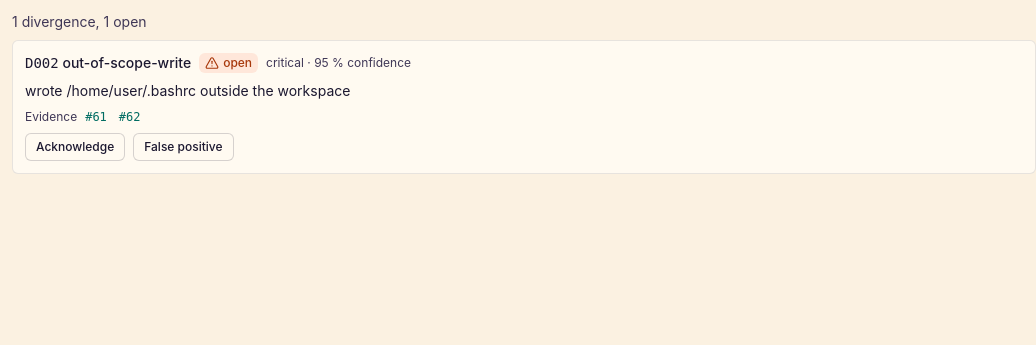
Test: session divergences › shows a refused triage and changes nothing
Step 1. Click the button "Acknowledge" → (75, 147), box [25,133,125,161]
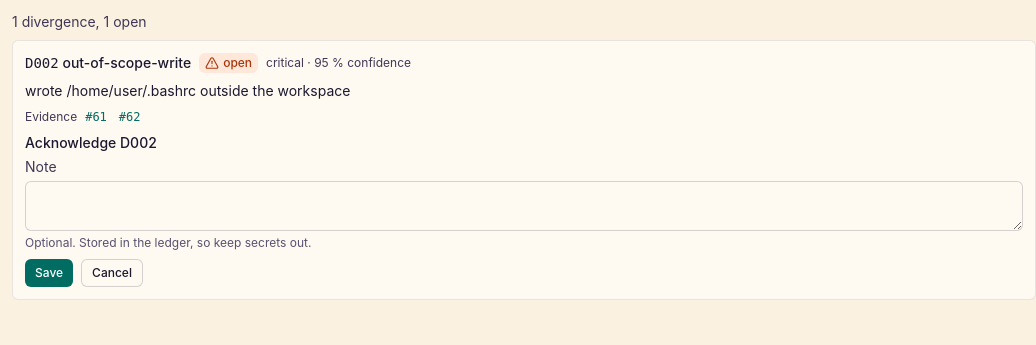
Step 2. Type "seen" into the text box labelled "Note" → (524, 206), box [25,181,1023,231]
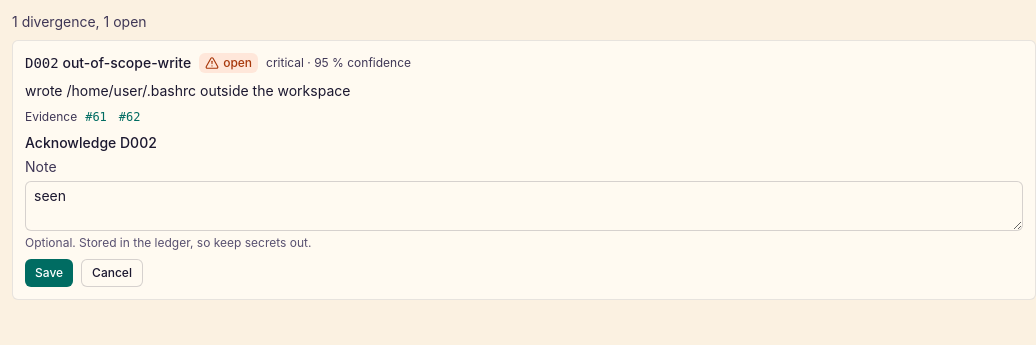
Step 3. Click the button "Save" → (49, 273), box [25,259,73,287]
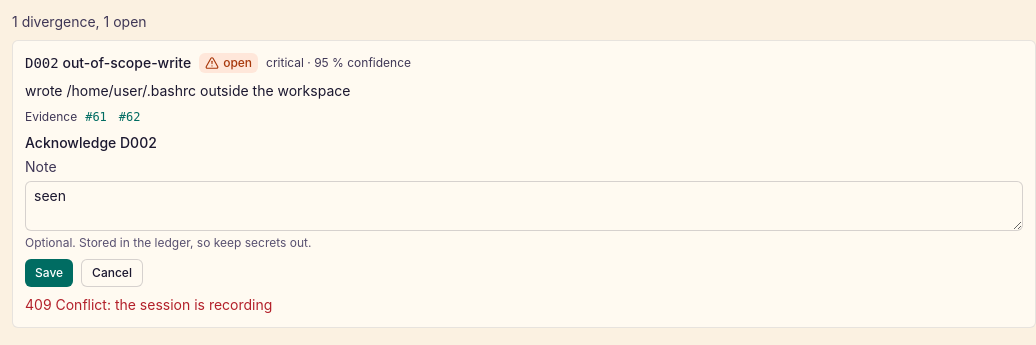
Expected: the element showing "open" is shown, [199,53,258,73]
Expected: the message reads "409 Conflict: the session is recording", [25,296,272,313]
